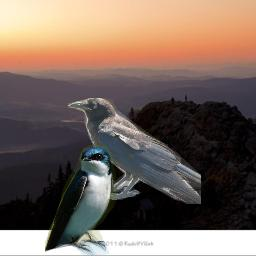Crow: (68, 98, 201, 204)
Swallow: (45, 145, 116, 256)
